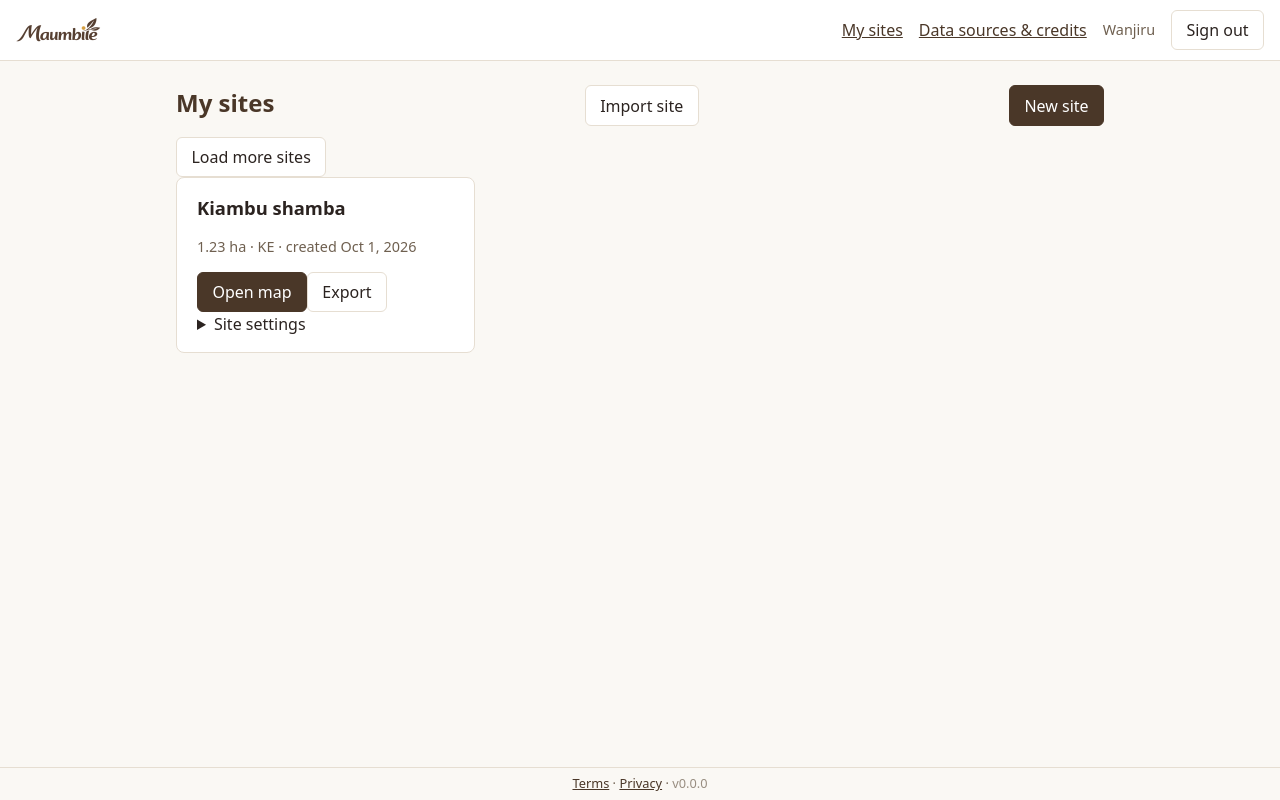
it: SitesDashboardPage › loads older sites beyond the first page
Click the button "Load more sites": (251, 157) [176, 137, 326, 177]
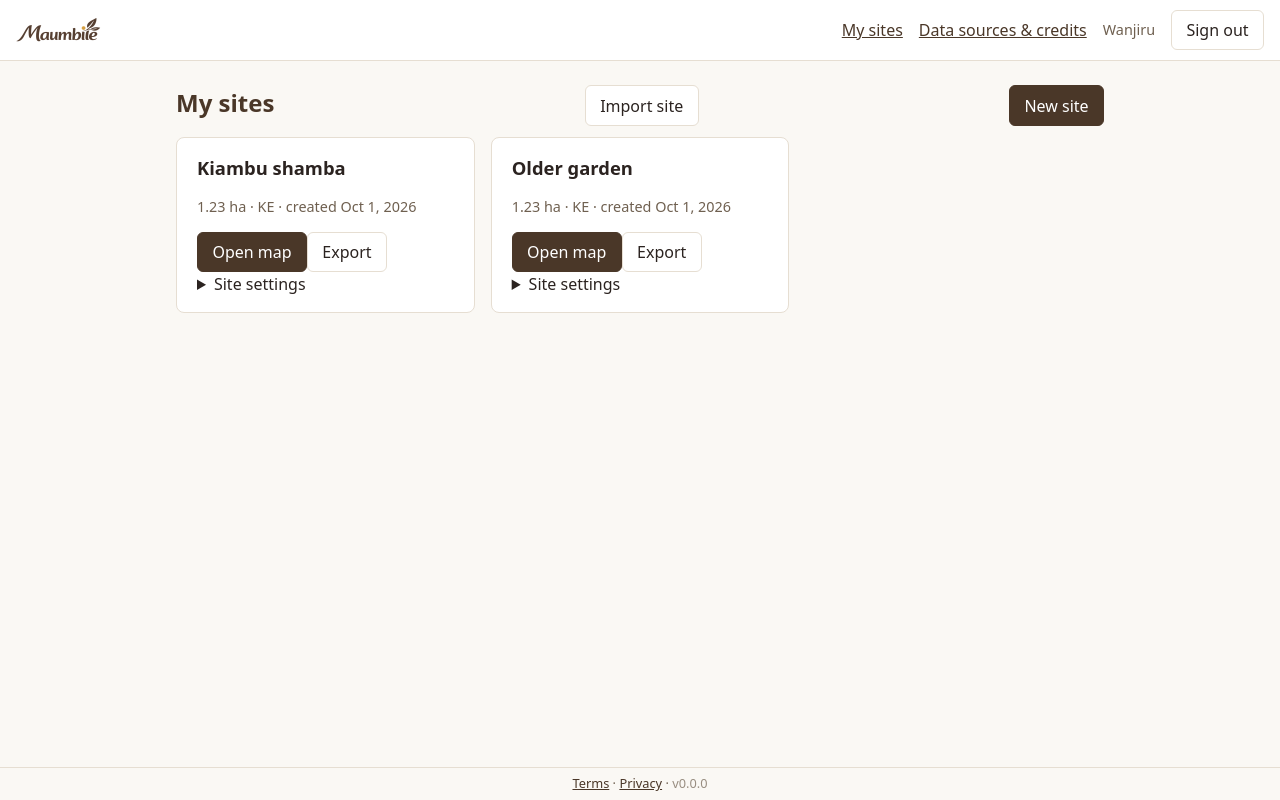
Expected: the heading "Older garden" is shown, [512, 155, 633, 180]
Expected: the number of list items is 2, [176, 137, 475, 313]; [491, 137, 789, 313]
Expected: the button "Load more sites" is gone
